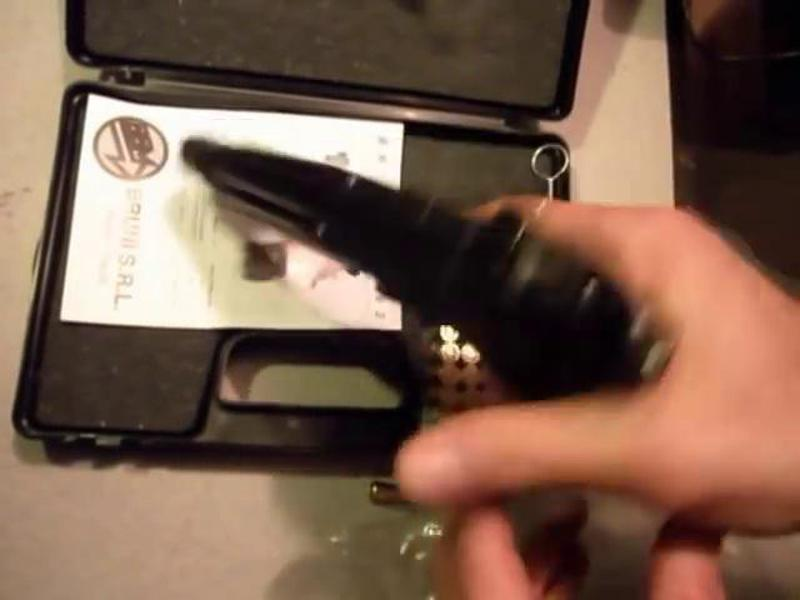Pistola: (177, 111, 620, 389)
